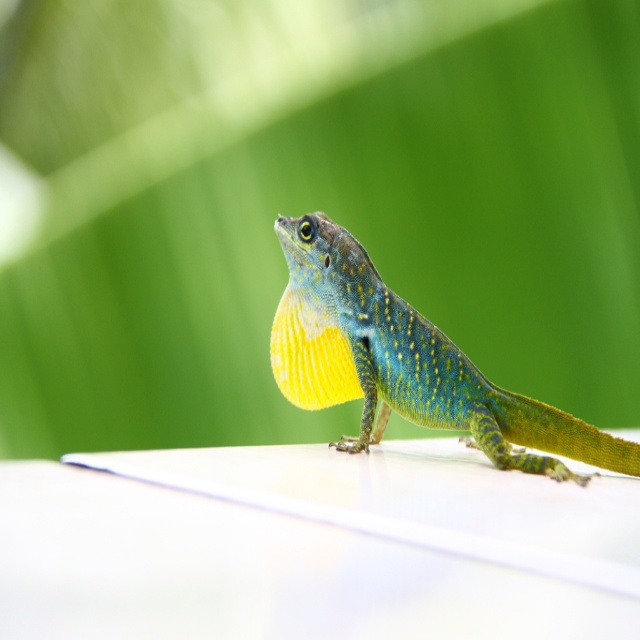Lizard: (270, 208, 624, 509)
